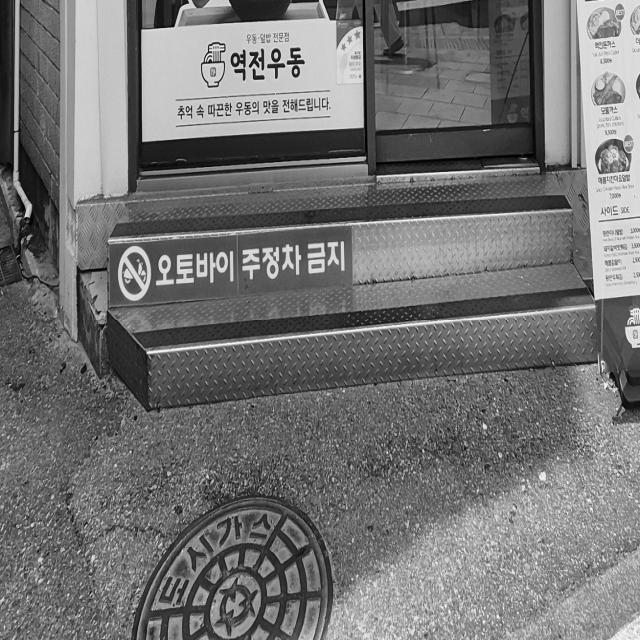stair: (109, 170, 596, 410)
